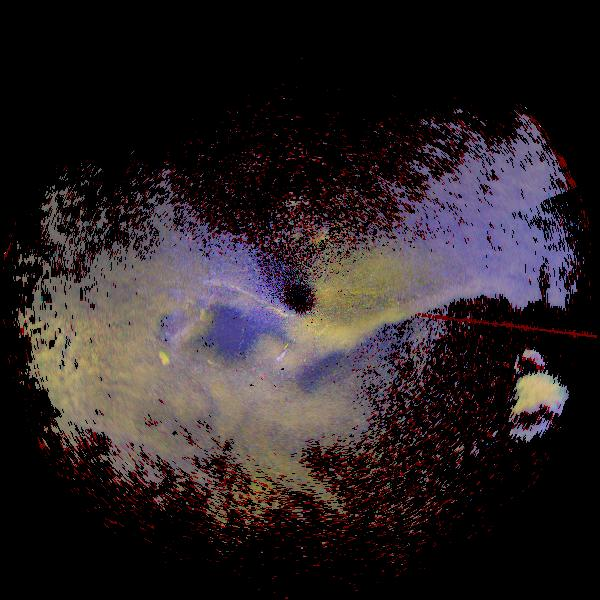roost: (147, 350, 174, 377)
